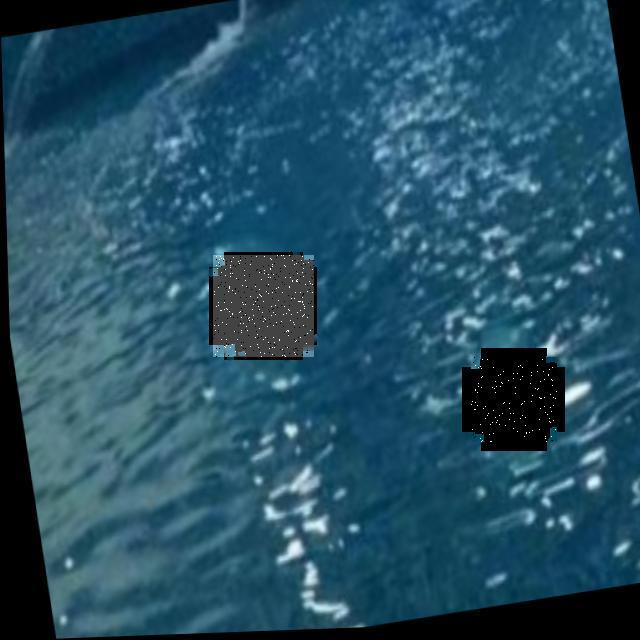swimming: (213, 255, 314, 357), (471, 357, 557, 442)
